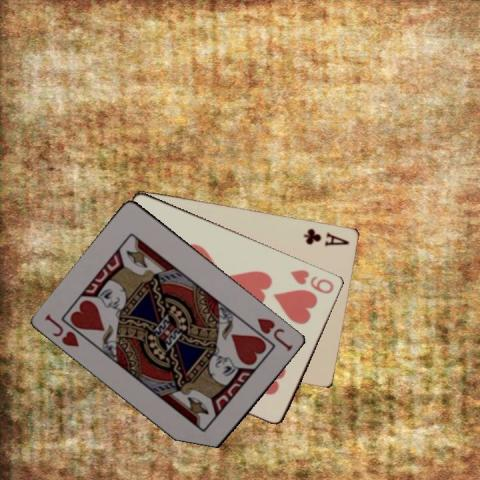9h: (287, 266, 336, 295)
Ac: (300, 226, 350, 248)
Jh: (254, 314, 295, 352), (42, 310, 81, 349)
